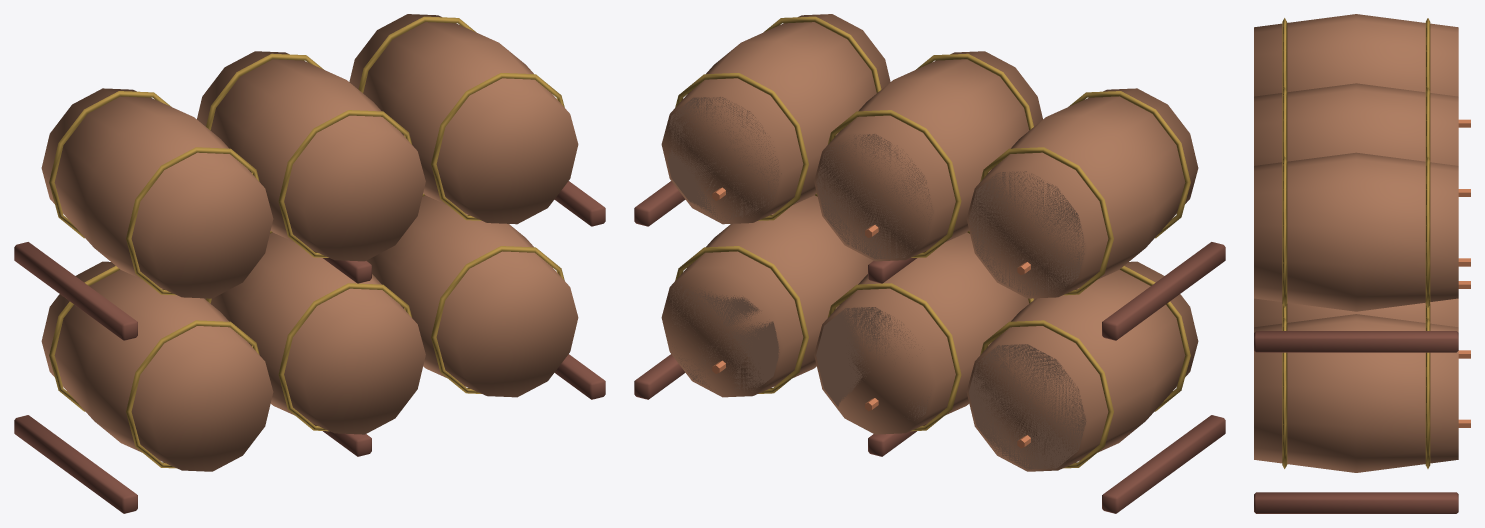
Rendered from barrel_rack.glb.
The picture shows the model from 3 angles, left to right: view 1: azimuth 30°, elevation 25°; view 2: azimuth 150°, elevation 25°; view 3: azimuth 270°, elevation 25°; orthographic projection. The views are drawn at different scales.
Visible parts, largest first — view 1: barrel_rack; view 2: barrel_rack; view 3: barrel_rack.
Part boxes in pixels (x1,y1,x2,y2): barrel_rack: [14, 14, 605, 513]; barrel_rack: [634, 14, 1225, 513]; barrel_rack: [1254, 14, 1470, 513].
Size of what is drawn, in the model's own units: 2.4 by 1.6 by 1.
